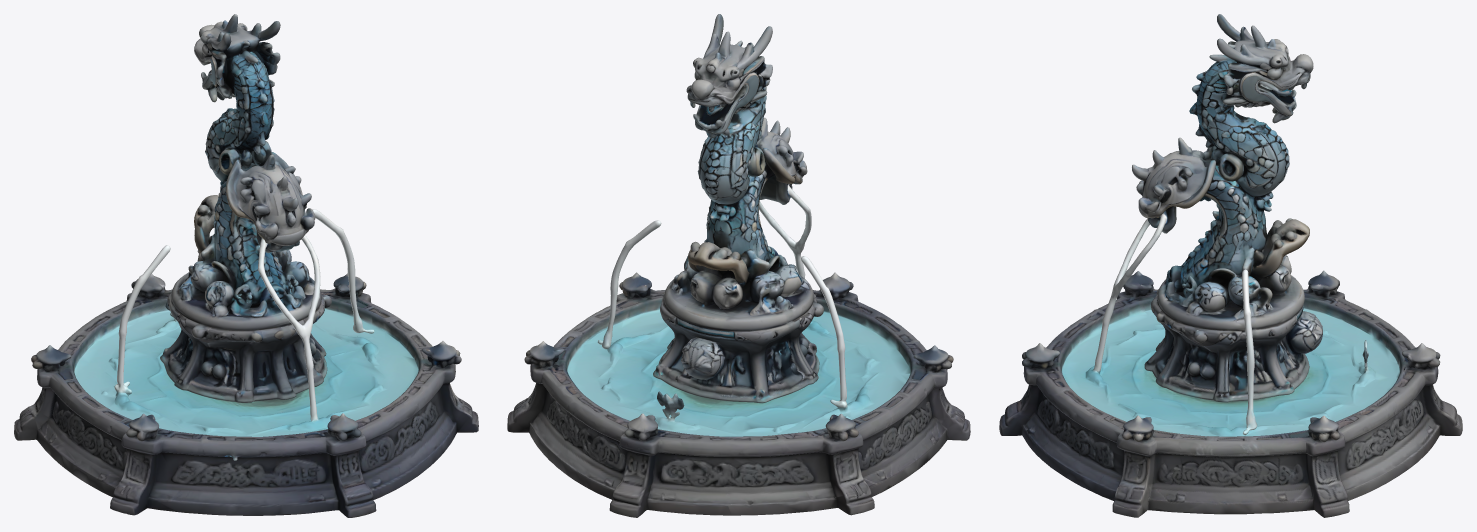
File: city-fountain-dragon.glb
3 renders of one model, left to right at view 1: azimuth 30°, elevation 25°; view 2: azimuth 150°, elevation 25°; view 3: azimuth 270°, elevation 25°, orthographic.
Visible parts, largest first — view 1: tripo_node_d02875f5-a526-4dde-b5e5-6205e288aacd; view 2: tripo_node_d02875f5-a526-4dde-b5e5-6205e288aacd; view 3: tripo_node_d02875f5-a526-4dde-b5e5-6205e288aacd.
Boxes of the visible parts, x1=… form: tripo_node_d02875f5-a526-4dde-b5e5-6205e288aacd: x1=14, y1=14, x2=478, y2=517; tripo_node_d02875f5-a526-4dde-b5e5-6205e288aacd: x1=507, y1=14, x2=970, y2=517; tripo_node_d02875f5-a526-4dde-b5e5-6205e288aacd: x1=999, y1=14, x2=1462, y2=517.
Size of the model in its own units: 4.62 by 5 by 5.11.
1 material, 1 textured.
